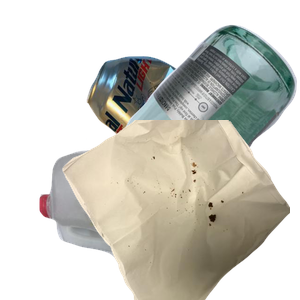glass: (86, 22, 300, 202)
metal: (84, 53, 279, 202)
plastic: (37, 147, 254, 300)
trash: (60, 120, 300, 300)
